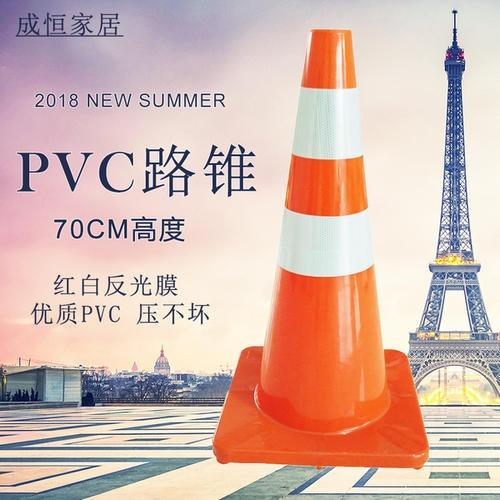cone_barrel: (236, 30, 396, 448)
